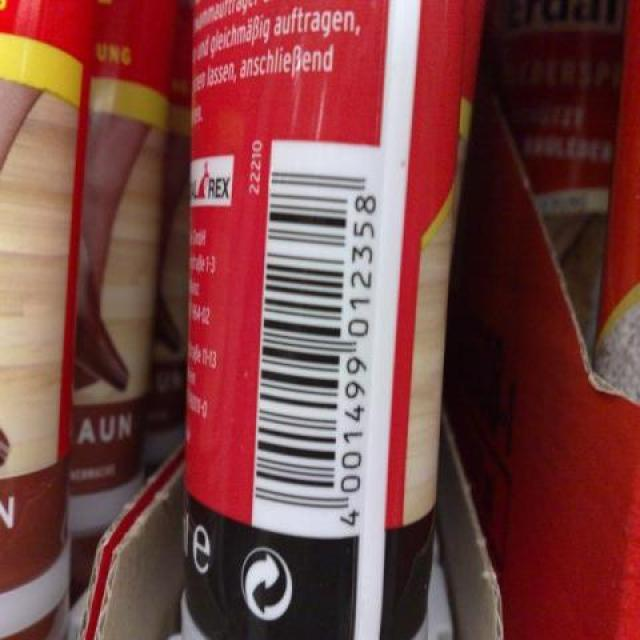Barcode: (251, 136, 385, 539)
